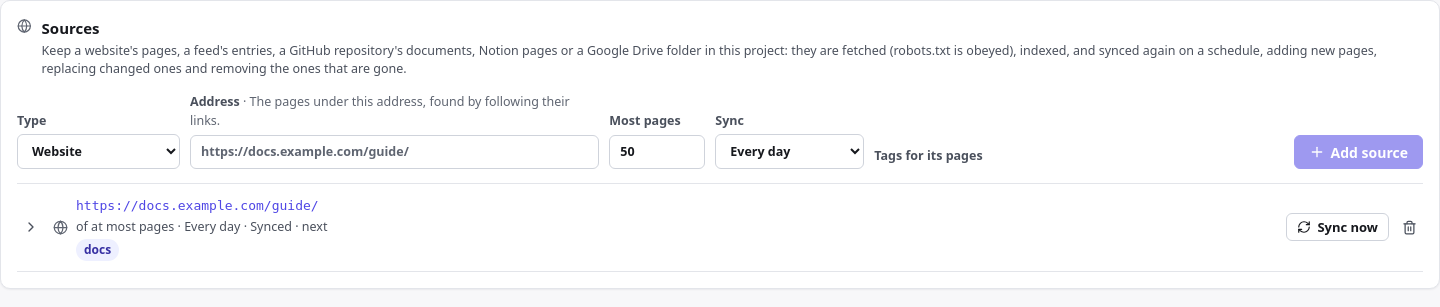
Test: WebsiteSources › removes a website, keeping its pages when asked
The image size is (1440, 307).
What coordinates should you click on to do the following:
click the button named "Remove https://docs.example.com/guide/"
I would click on:
 (1409, 227)
Its box is [1395,213,1423,241].
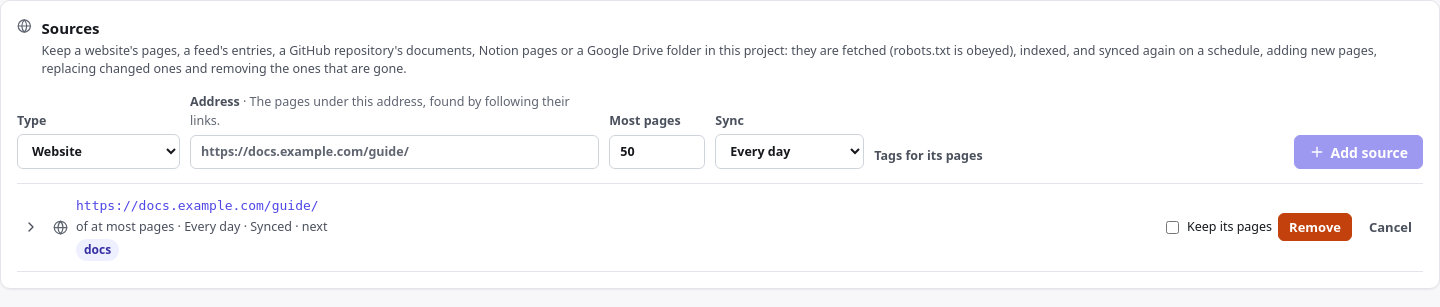
What coordinates should you click on to do the following:
click the checkbox labelled "Keep its pages"
I would click on:
 (1172, 227)
Its box is [1166,221,1179,234].
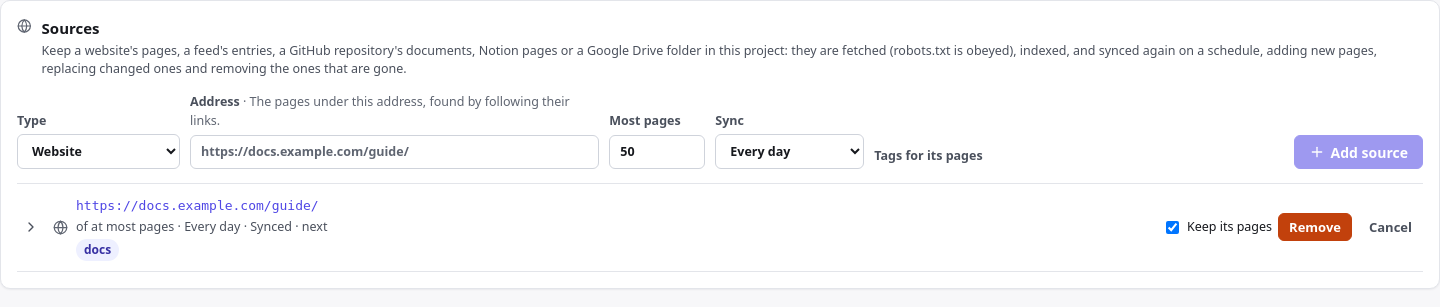
What coordinates should you click on to do the following:
click the button with class "btn-danger"
I would click on:
 (1315, 227)
Its box is [1278,213,1352,241].
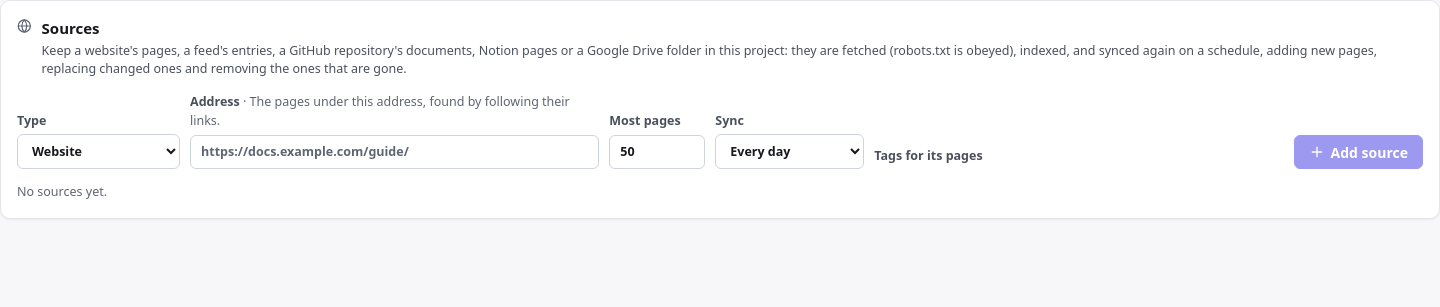
Check: the text "No sources yet." is shown, box [17,183,107,200]
